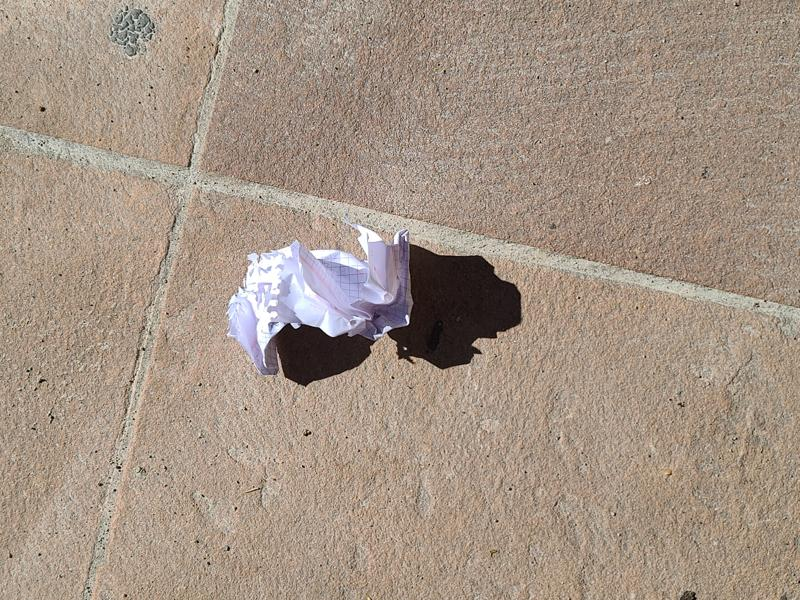papel: (228, 229, 417, 375)
